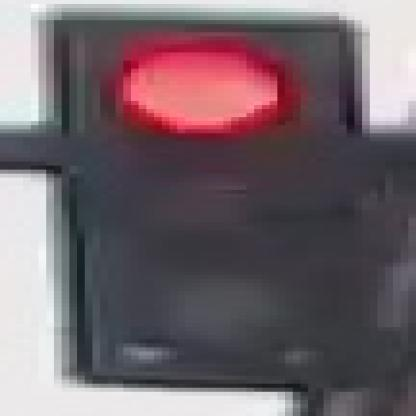Red Light: (53, 15, 390, 385)
